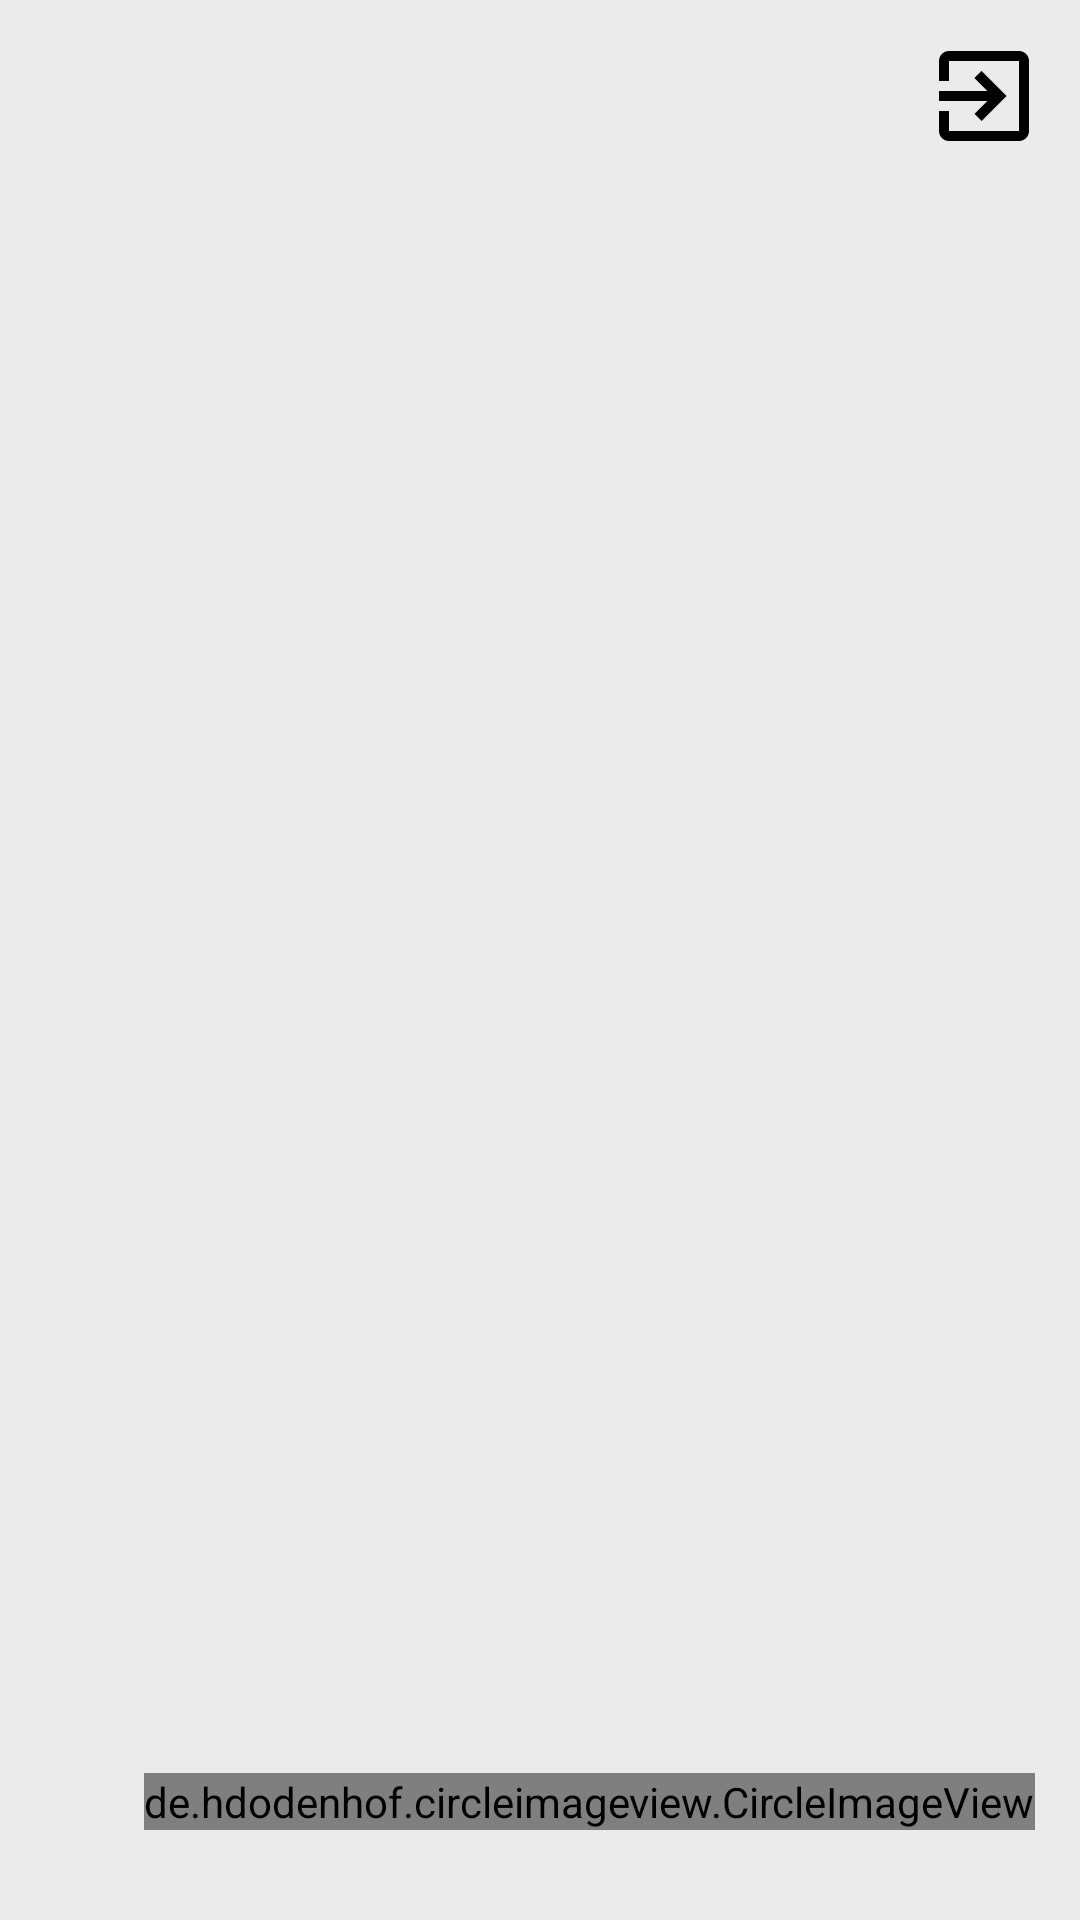

Named icons in this screenshot (1080px×1920px) and their centers, [x,y]:
exit to app: [984,96]
